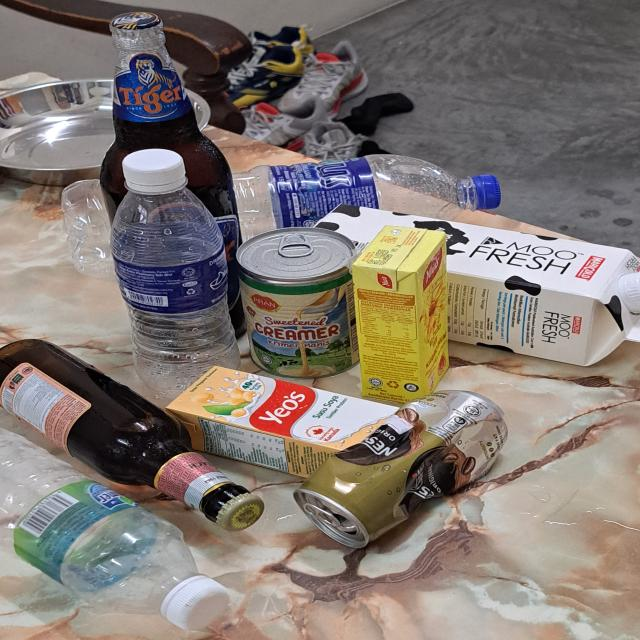can: (294, 392, 509, 549), (235, 227, 358, 379)
drink carton: (312, 202, 640, 366), (164, 367, 400, 478), (352, 225, 450, 402)
glass bottle: (0, 338, 266, 532), (101, 10, 249, 344)
plastic bottle: (0, 431, 199, 615), (109, 190, 242, 400), (230, 153, 478, 240)
plastic bottle cap: (164, 578, 234, 632), (121, 148, 186, 188), (478, 174, 503, 210), (622, 271, 640, 313)
pop tab: (302, 503, 341, 527), (278, 233, 314, 258)
